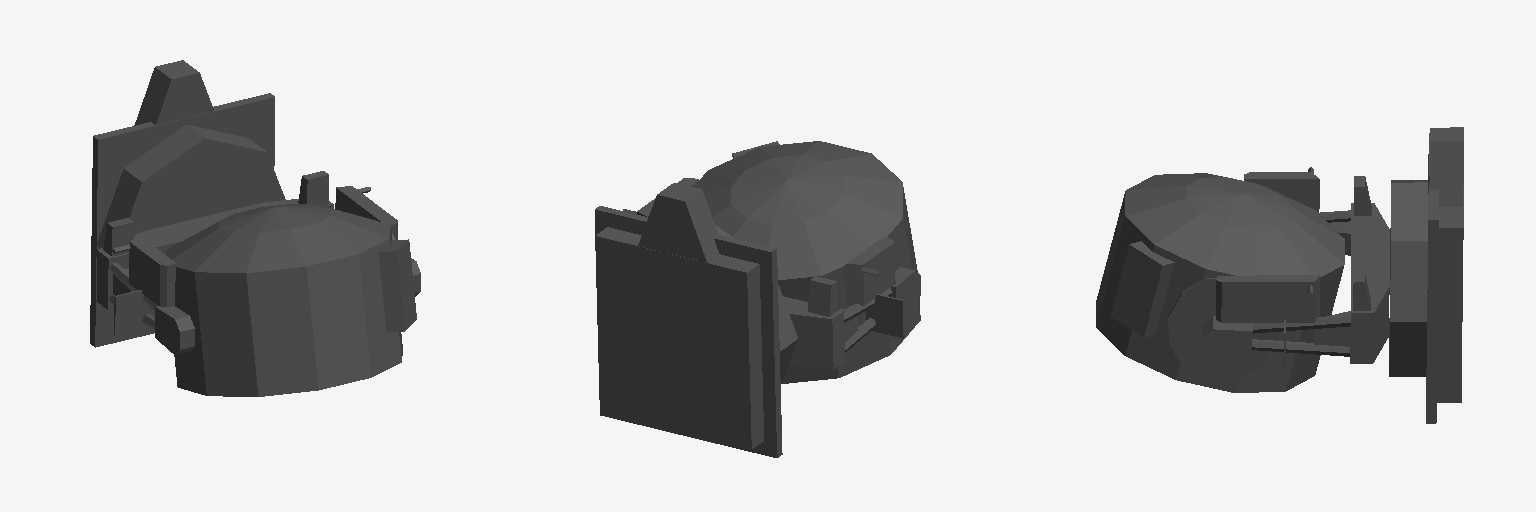
The model's file is spotlight.obj.
3 views of the same model, side by side, from view 1: azimuth 30°, elevation 25°; view 2: azimuth 150°, elevation 25°; view 3: azimuth 270°, elevation 25° (orthographic).
Visible parts, largest first — view 1: DrawCall_0; view 2: DrawCall_0; view 3: DrawCall_0.
Boxes of the visible parts, box(x1,y1,x2,y2) form: DrawCall_0: box(90, 60, 420, 396); DrawCall_0: box(595, 141, 920, 457); DrawCall_0: box(1096, 127, 1463, 423).
Size of the model in its own units: 1.17 by 1 by 1.35.